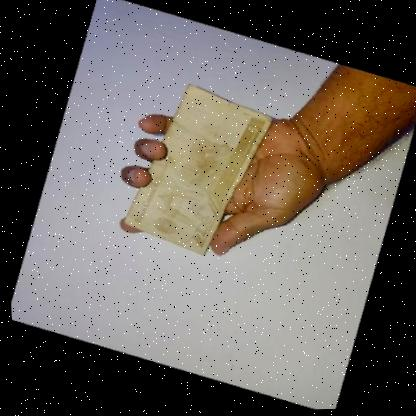five-back-vef: (115, 78, 280, 262)
